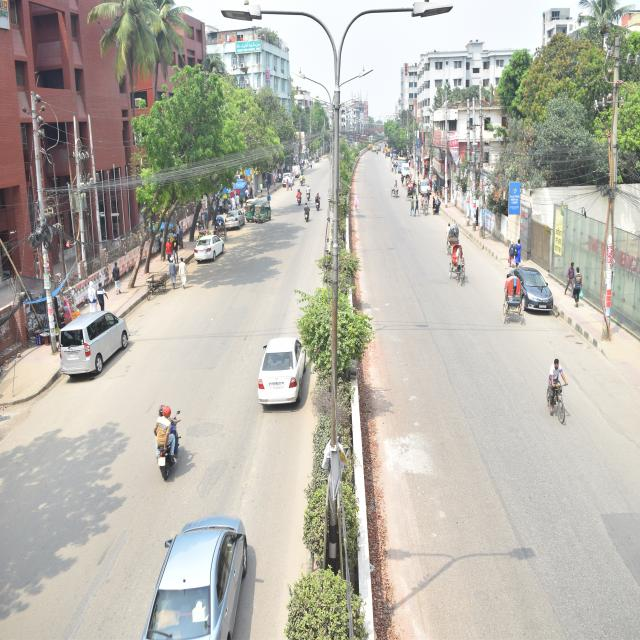car: (129, 494, 296, 640), (18, 288, 163, 399), (238, 304, 346, 432), (501, 233, 574, 334), (182, 225, 241, 296), (221, 199, 253, 254), (240, 181, 268, 237), (414, 163, 442, 203), (278, 160, 294, 203), (399, 153, 417, 185)
motorbike: (119, 378, 219, 488), (308, 183, 328, 221), (300, 199, 318, 237), (291, 179, 305, 206), (300, 176, 314, 201)
pickup-van: (290, 157, 308, 189)
